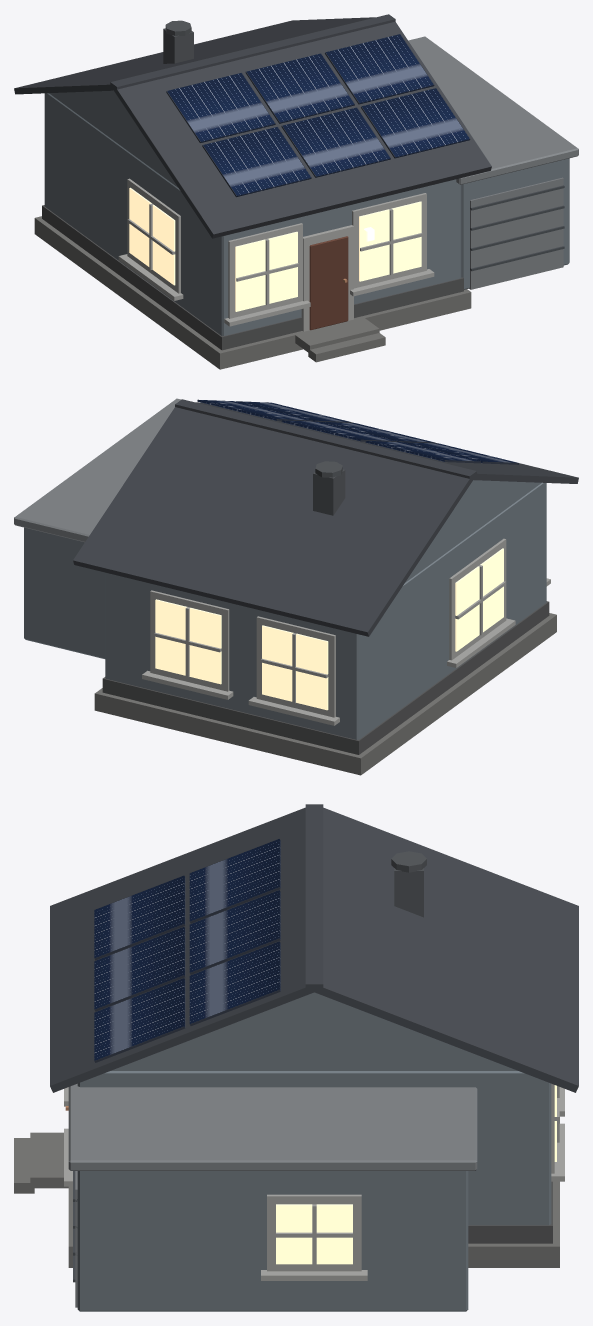
File: house_b.glb
The picture shows the model from 3 angles, top to bottom: view 1: azimuth 30°, elevation 25°; view 2: azimuth 150°, elevation 25°; view 3: azimuth 270°, elevation 25°; orthographic projection. The views are drawn at different scales.
Parts seen in each view (by area): view 1: walls, roof, roof_solar, windows, door, chimney; view 2: walls, roof, windows, roof_solar, chimney; view 3: walls, roof, roof_solar, windows, chimney.
Boxes of the visible parts, box(x1,y1,x2,y2) form: walls: box(34, 36, 578, 369); roof: box(14, 14, 491, 238); roof_solar: box(166, 34, 470, 197); windows: box(129, 187, 421, 311); door: box(309, 236, 348, 330); chimney: box(163, 20, 193, 63); walls: box(14, 398, 556, 775); roof: box(73, 399, 578, 636); windows: box(155, 548, 503, 710); roof_solar: box(197, 399, 519, 464); chimney: box(313, 461, 345, 515); walls: box(14, 992, 564, 1311); roof: box(50, 804, 578, 1092); roof_solar: box(94, 838, 280, 1062); windows: box(276, 1085, 556, 1264); chimney: box(391, 851, 426, 917).
Size of the model in its own units: 9.73 by 5.65 by 9.54.
Materials: 13 (1 with a texture image).
